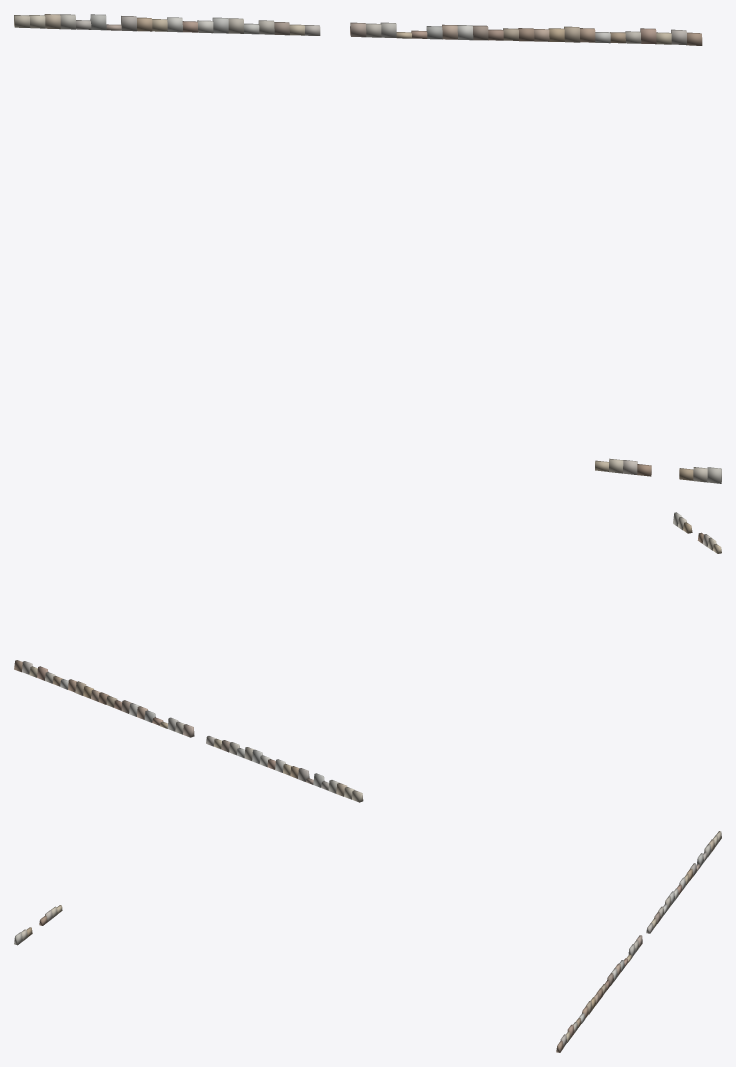
The model's file is farm_-5_6_collision.glb.
The picture shows the model from 3 angles, top to bottom: view 1: azimuth 30°, elevation 25°; view 2: azimuth 150°, elevation 25°; view 3: azimuth 270°, elevation 25°; orthographic projection. The views are drawn at different scales.
Visible parts, largest first — view 1: geometry_0; view 2: geometry_0; view 3: geometry_0.
Part boxes in pixels (x1,y1,x2,y2): geometry_0: (14, 14, 721, 483); geometry_0: (14, 512, 721, 802); geometry_0: (14, 831, 721, 1052).
Bounding box in the file's own units: 66.27 × 11.42 × 113.
